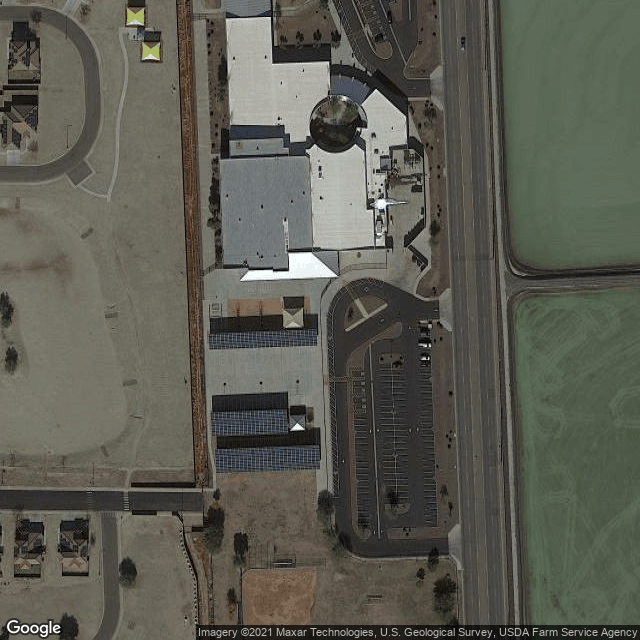carport-fixed: (214, 445, 320, 472), (207, 326, 316, 348), (210, 409, 289, 433)
